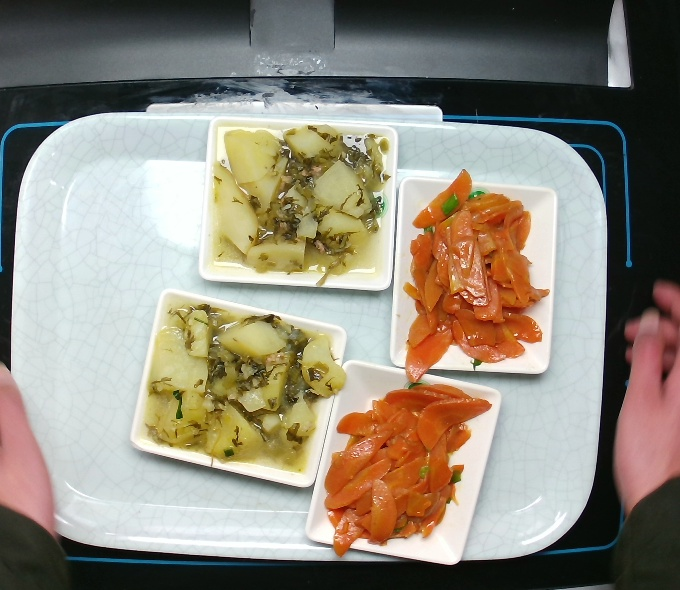wcq-HuLuoBo: (324, 378, 487, 551), (405, 182, 542, 367)
wcq-XueCaiTuDou: (153, 311, 321, 470), (217, 121, 385, 280)
